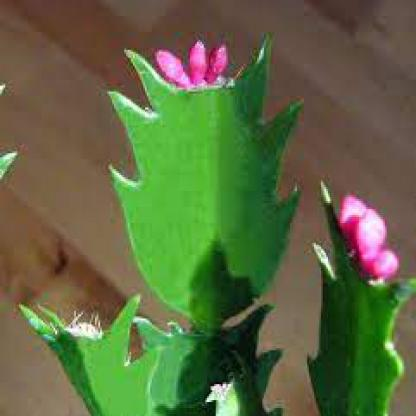Aglonema: (81, 17, 296, 368)
